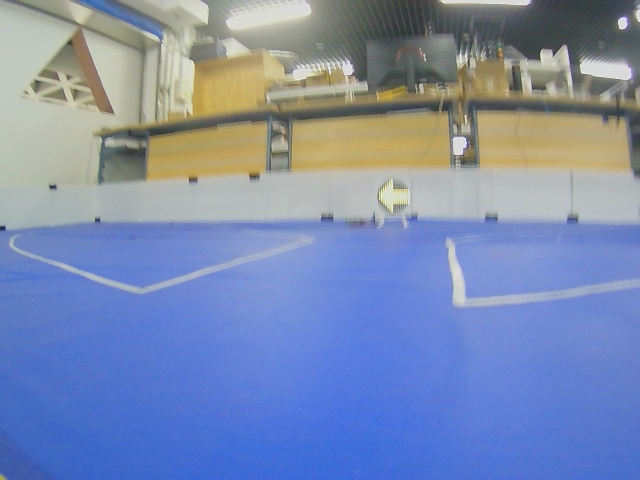left_yellow: (378, 179, 410, 214)
